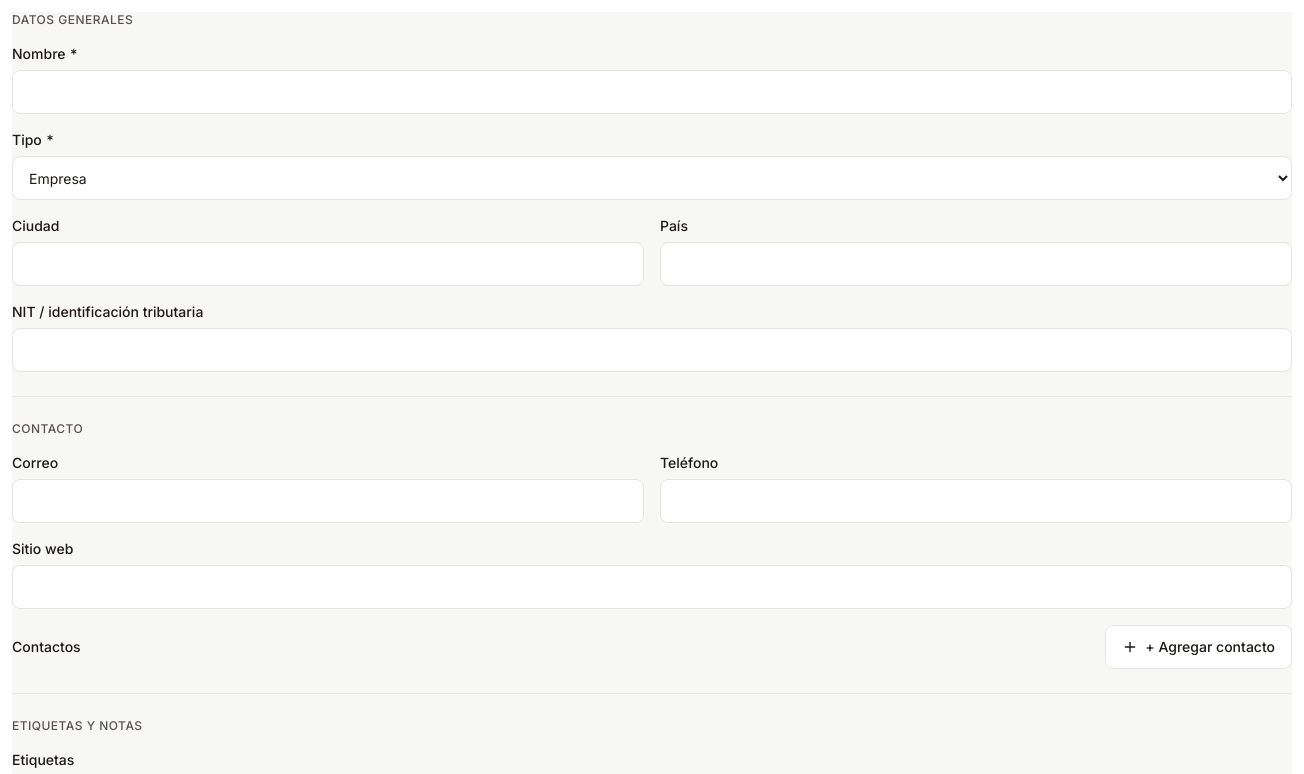
HU-01.2 mensajes traducidos en el formulario › muestra el error de nombre duplicado
The image size is (1304, 774).
Step 1. Type "acme corp" into the field labelled "Nombre *" → (652, 92), box [12, 70, 1292, 114]
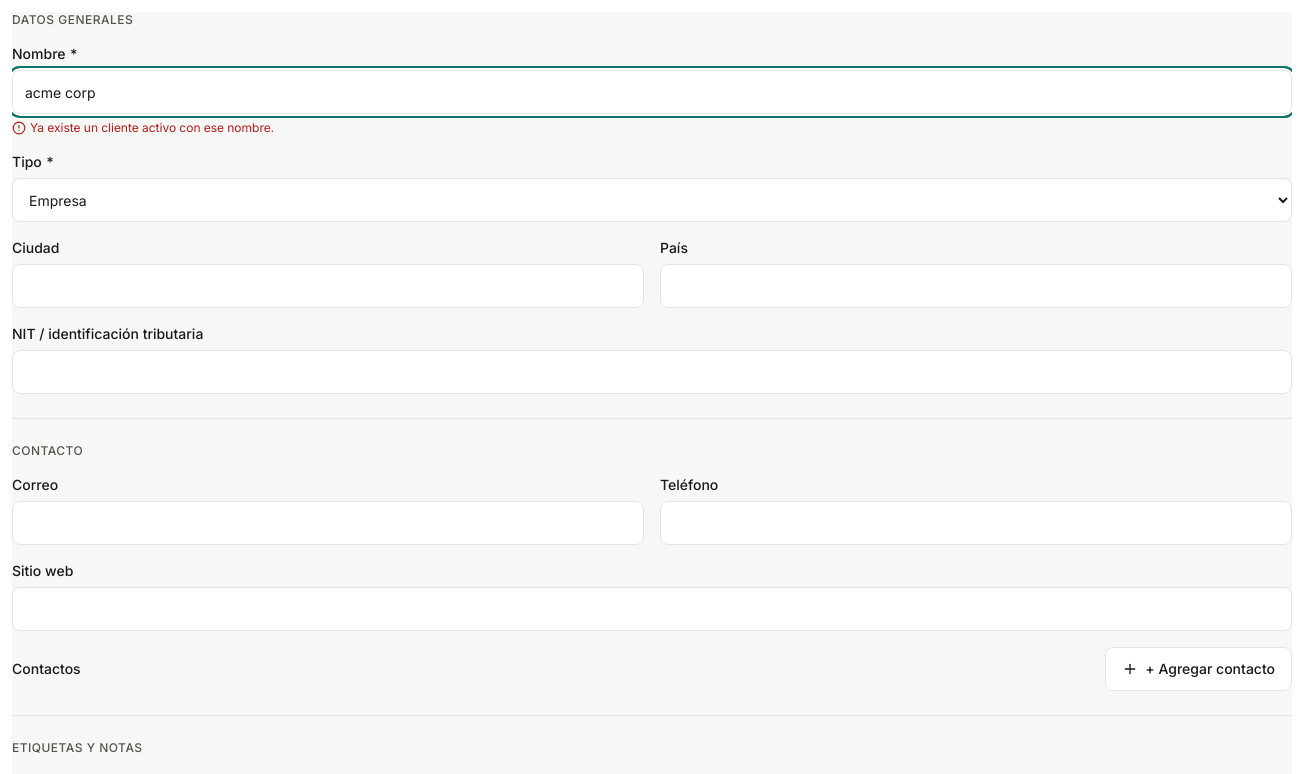
Expected: the text "Ya existe un cliente activo con ese nombre." is shown, [12, 120, 274, 135]
